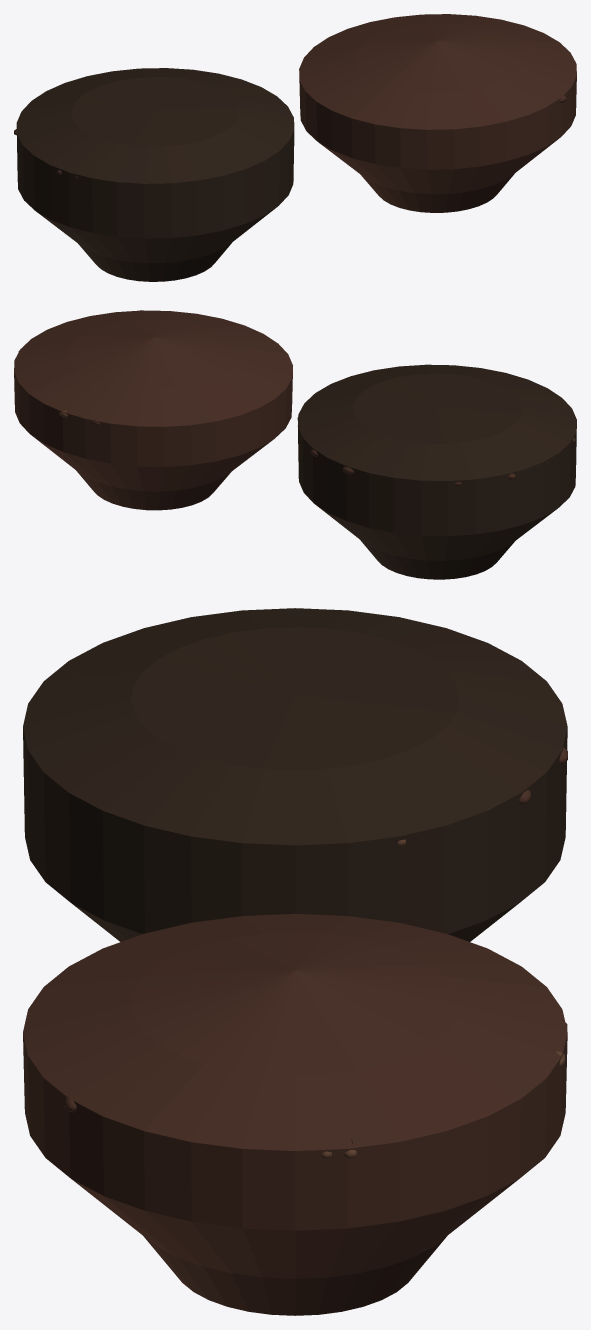
The model's file is beans.glb.
3 renders of one model, top to bottom at view 1: azimuth 30°, elevation 25°; view 2: azimuth 150°, elevation 25°; view 3: azimuth 270°, elevation 25°, orthographic. The views are drawn at different scales.
Parts seen in each view (by area): view 1: beans; view 2: beans; view 3: beans.
Boxes of the visible parts, bbox=[...] form: beans: bbox=[14, 14, 576, 281]; beans: bbox=[14, 310, 576, 579]; beans: bbox=[23, 608, 567, 1315].
Bounding box in the file's own units: 0.588 × 0.156 × 0.264.
